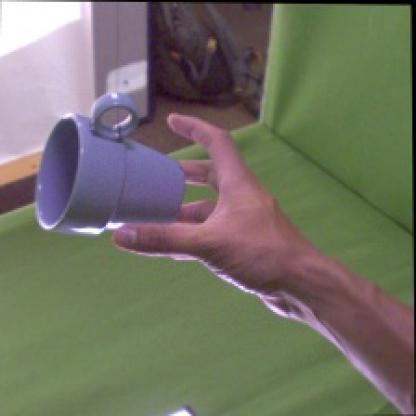Hand: (113, 112, 306, 318)
